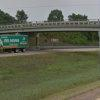Bridge: (2, 12, 97, 37)
